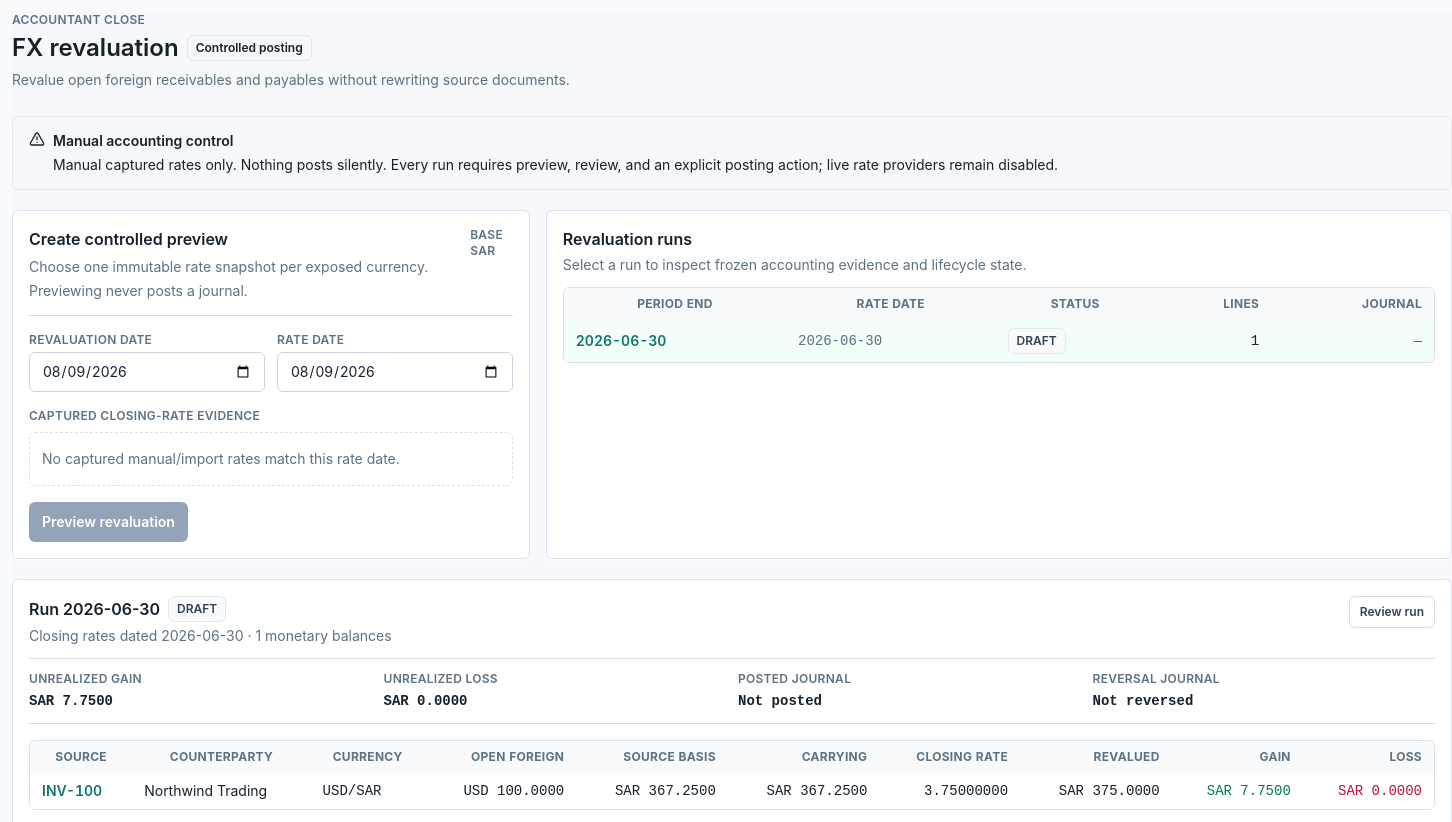
Test: FxRevaluationsPage › creates a draft preview from selected immutable rate evidence
Expected: the link "INV-100" is shown, top-left (42, 782), bottom-right (102, 799)
Step 1. Type "2026-06-30" into the date field labelled "Revaluation date" → (147, 372), box top-left (29, 352), bottom-right (265, 392)
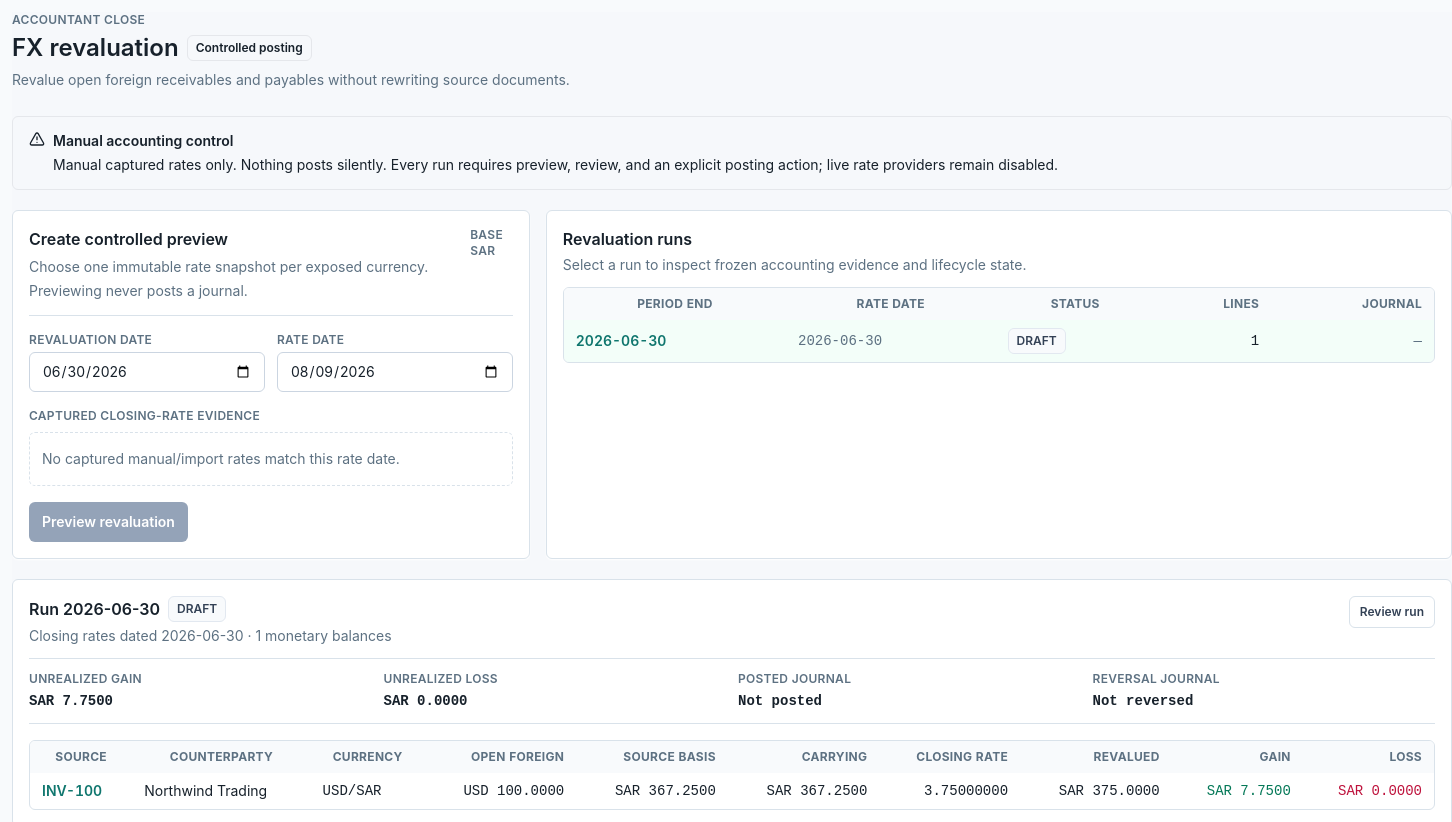
Step 2. Type "2026-06-30" into the date field labelled "Rate date" → (395, 372), box top-left (277, 352), bottom-right (513, 392)
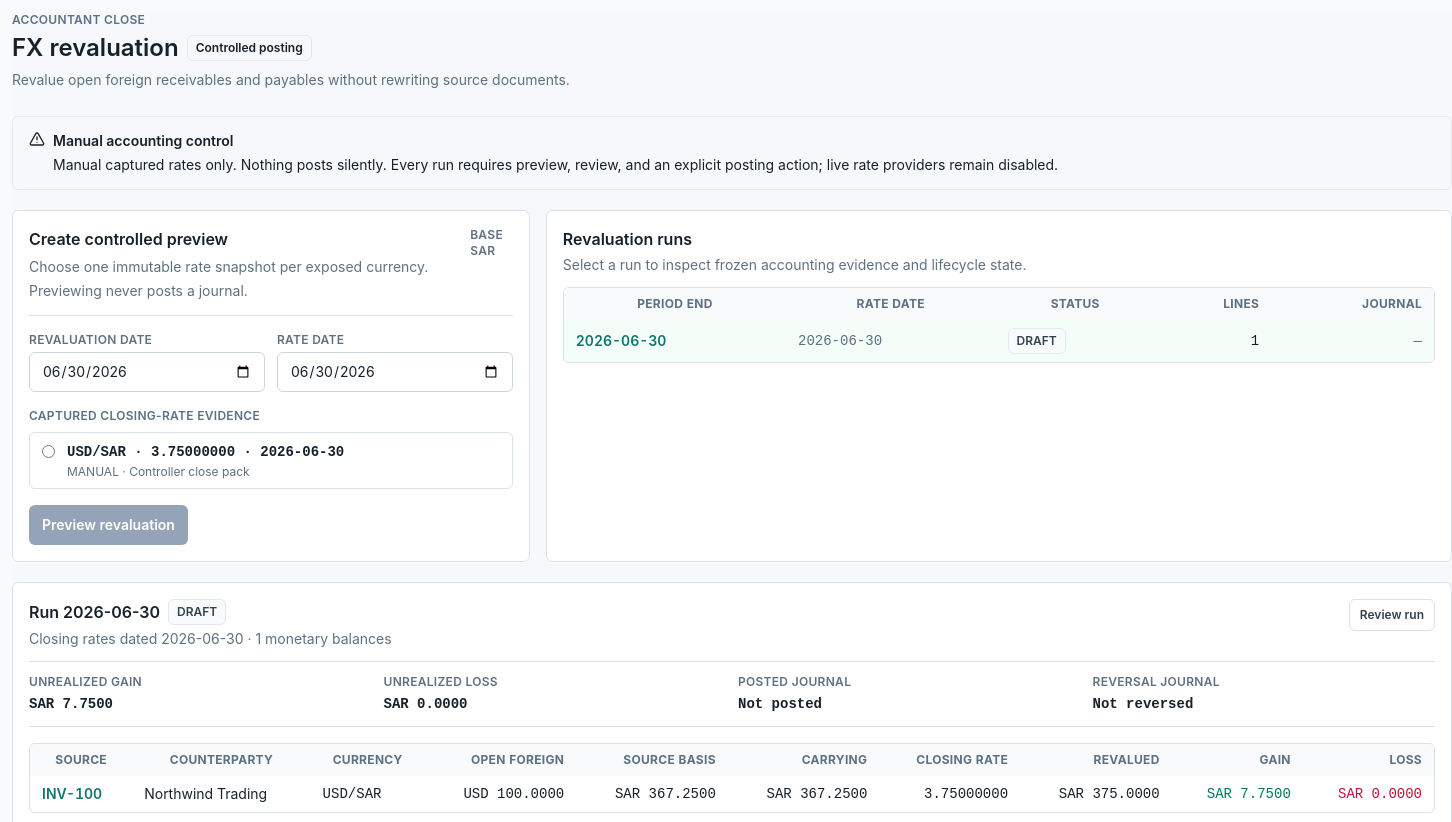
Step 3. Click the radio button labelled "USD/SAR · 3.75000000 · 2026-06-30" → (48, 452), box top-left (42, 445), bottom-right (55, 458)
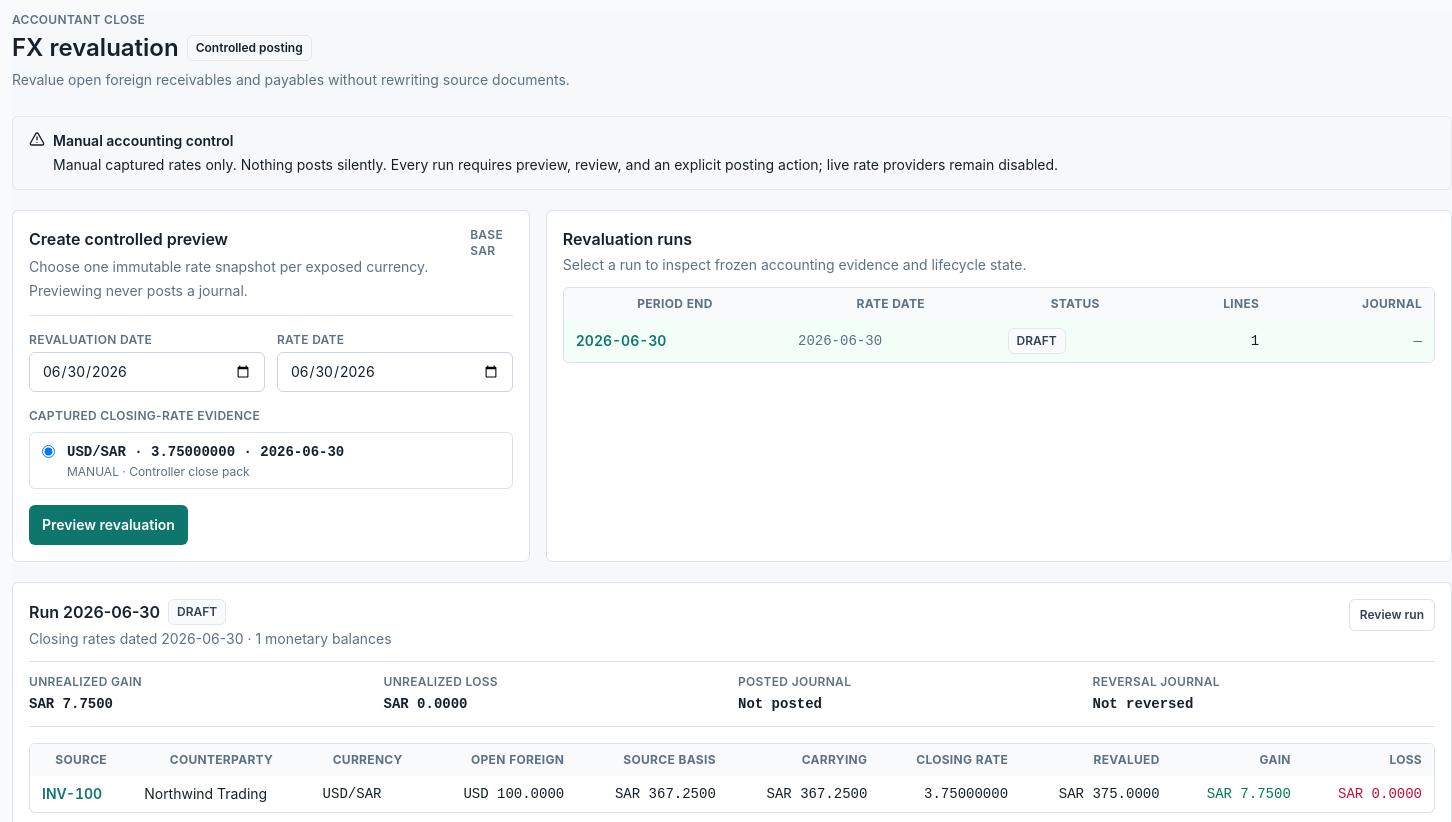
Step 4. Click the button "Preview revaluation" → (108, 525), box top-left (29, 505), bottom-right (188, 545)
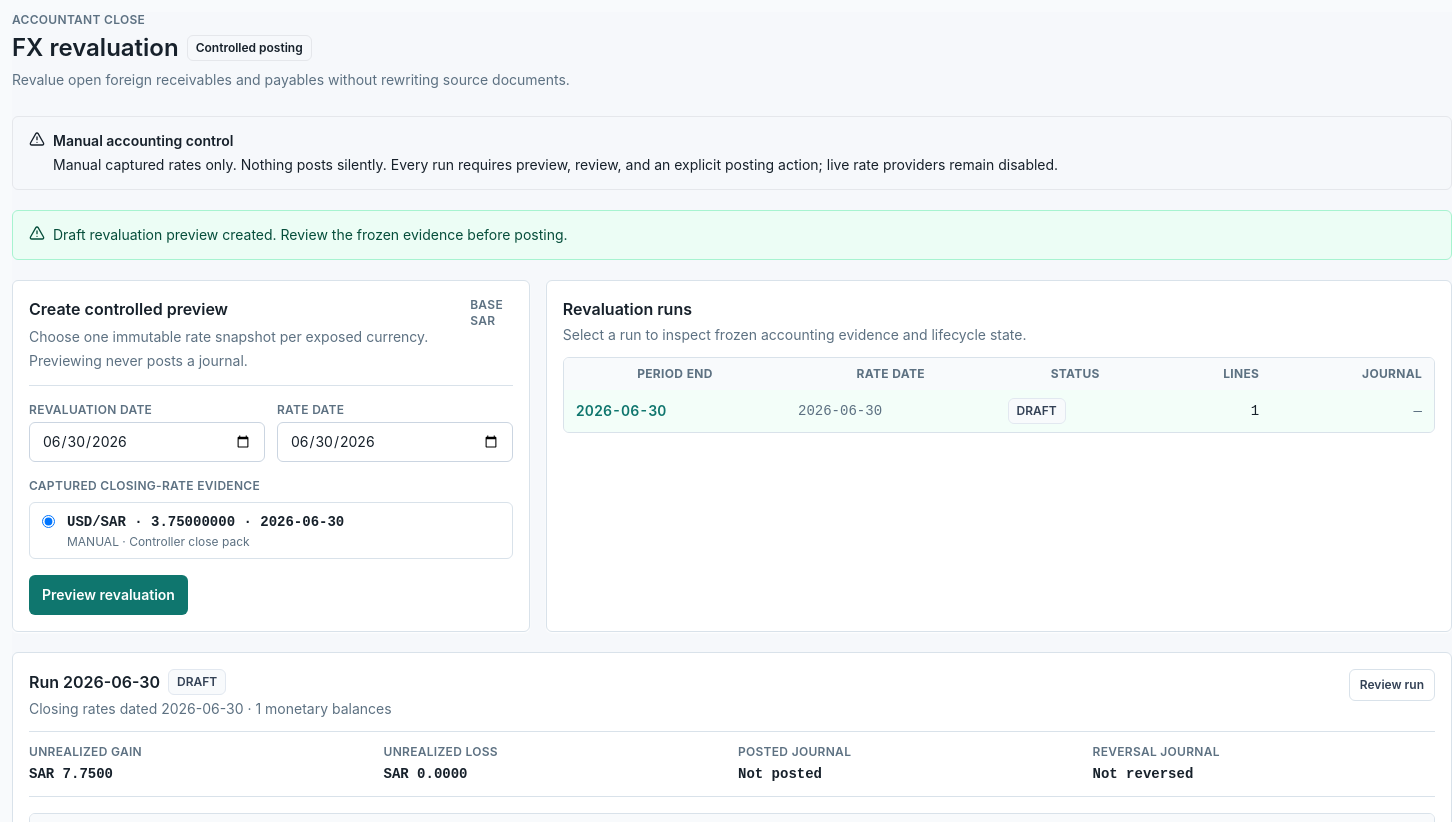
Now the text "Draft revaluation preview created" is shown, box top-left (53, 226), bottom-right (568, 243)
